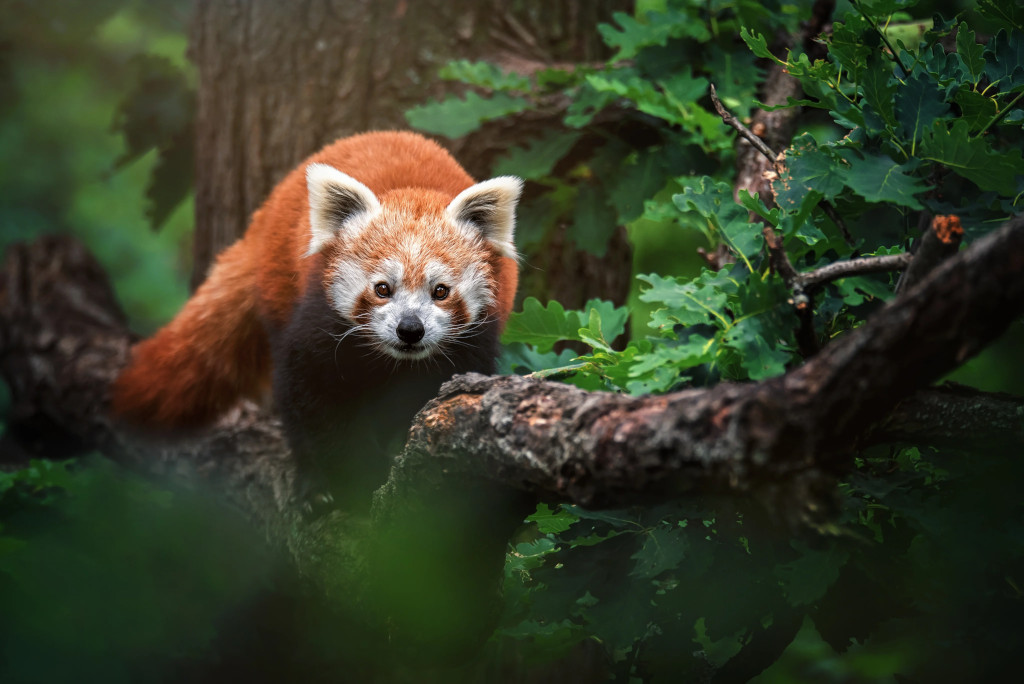Red panda: (302, 160, 530, 359)
